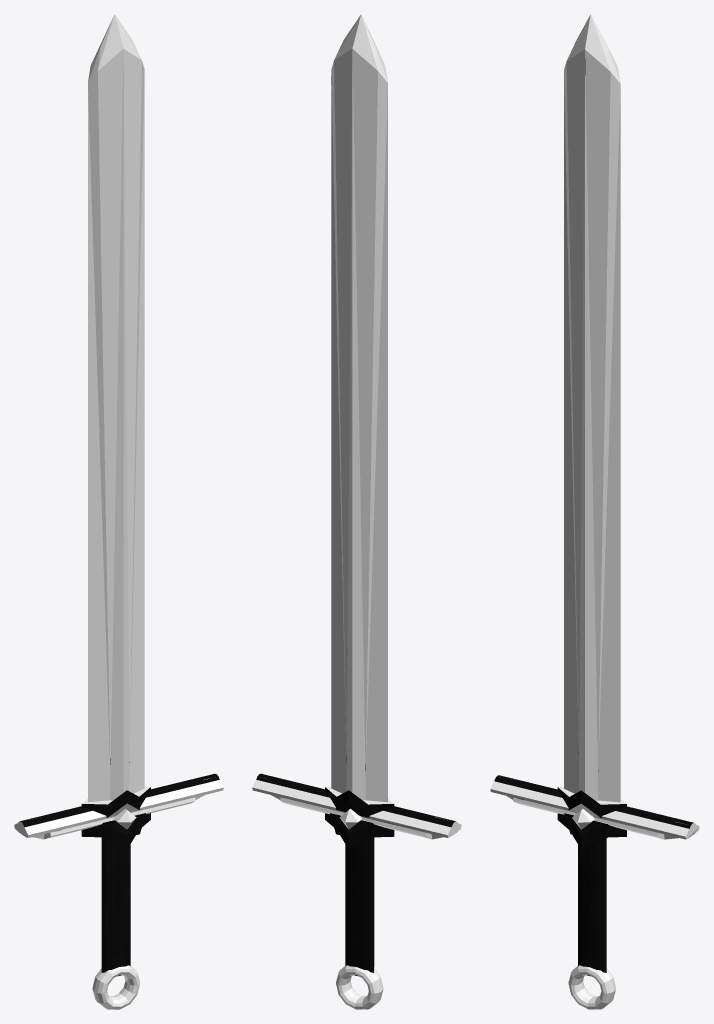
Rendered from sword.glb.
3 views of the same model, side by side, from view 1: azimuth 30°, elevation 25°; view 2: azimuth 150°, elevation 25°; view 3: azimuth 330°, elevation 25° (orthographic).
Parts seen in each view (by area): view 1: SwordMesh; view 2: SwordMesh; view 3: SwordMesh.
Boxes of the visible parts, box(x1,y1,x2,y2) form: SwordMesh: box(14, 14, 223, 1009); SwordMesh: box(252, 14, 461, 1009); SwordMesh: box(490, 14, 699, 1009).
Bounding box in the file's own units: 0.31 × 1.51 × 0.08.
Materials: 1 (1 with a texture image).
